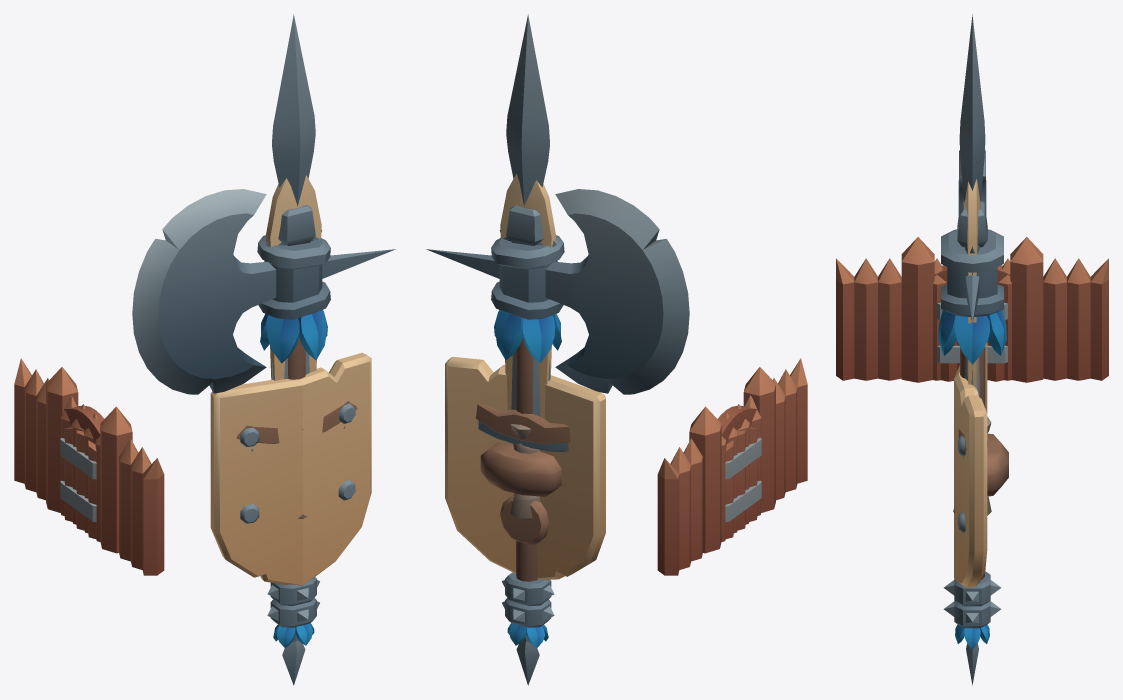
The model's file is holding-armoury.glb.
The picture shows the model from 3 angles, left to right: view 1: azimuth 30°, elevation 25°; view 2: azimuth 150°, elevation 25°; view 3: azimuth 270°, elevation 25°; orthographic projection.
Parts seen in each view (by area): view 1: halberd, shield_A, fence_wood_straight_gate, fence_wood_straight, spear_A, fence_wood_straight_door, sword_A; view 2: halberd, shield_A, fence_wood_straight, fence_wood_straight_gate, spear_A, sword_A, fence_wood_straight_door, sword_B; view 3: fence_wood_straight, fence_wood_straight_gate, halberd, shield_A, spear_A, fence_wood_straight_door, sword_A.
Boxes of the visible parts, x1=… form: halberd: x1=132, y1=189, x2=395, y2=642; shield_A: x1=210, y1=352, x2=371, y2=585; fence_wood_straight_gate: x1=14, y1=367, x2=164, y2=575; fence_wood_straight: x1=14, y1=358, x2=164, y2=575; spear_A: x1=265, y1=14, x2=322, y2=685; fence_wood_straight_door: x1=60, y1=427, x2=96, y2=538; sword_A: x1=236, y1=175, x2=357, y2=443; halberd: x1=426, y1=189, x2=689, y2=642; shield_A: x1=445, y1=356, x2=605, y2=579; fence_wood_straight: x1=657, y1=358, x2=807, y2=575; fence_wood_straight_gate: x1=657, y1=367, x2=807, y2=575; spear_A: x1=499, y1=14, x2=556, y2=685; sword_A: x1=476, y1=173, x2=570, y2=544; fence_wood_straight_door: x1=725, y1=427, x2=761, y2=538; sword_B: x1=478, y1=208, x2=568, y2=543; fence_wood_straight: x1=836, y1=258, x2=1108, y2=380; fence_wood_straight_gate: x1=836, y1=237, x2=1108, y2=382; halberd: x1=938, y1=150, x2=1006, y2=606; shield_A: x1=954, y1=343, x2=1008, y2=587; spear_A: x1=943, y1=14, x2=1001, y2=685; fence_wood_straight_door: x1=937, y1=292, x2=1007, y2=381; sword_A: x1=958, y1=179, x2=987, y2=450.
Size of the model in its own units: 1.57 by 3.14 by 1.15.
Materials: 2 (2 with a texture image).
